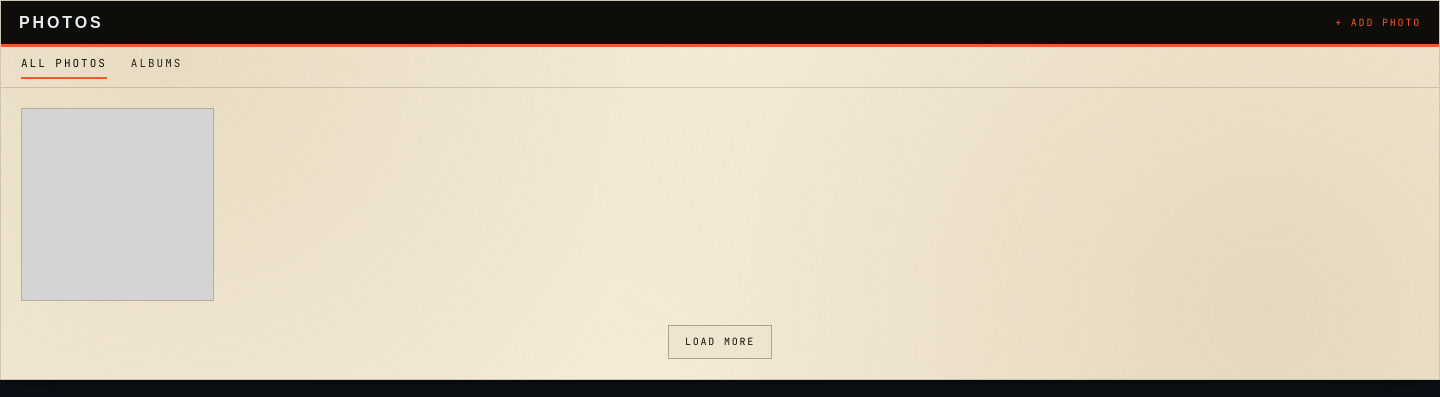
it: AlbumsGrid — first-load failure › renders the paper failure with sanitized copy
Click the tab "ALBUMS".
click(157, 67)  # box x1=131 y1=55 x2=182 y2=79
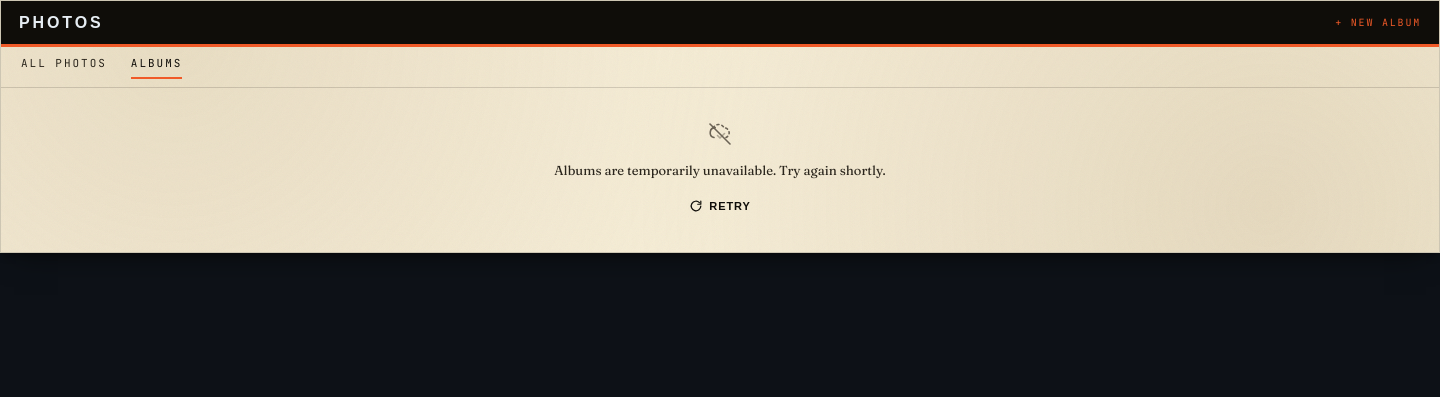
Expected: the message does not show "raw server text that must never render", x1=554 y1=160 x2=886 y2=181
Expected: the message shows "Albums are temporarily unavailable", x1=554 y1=162 x2=886 y2=178
